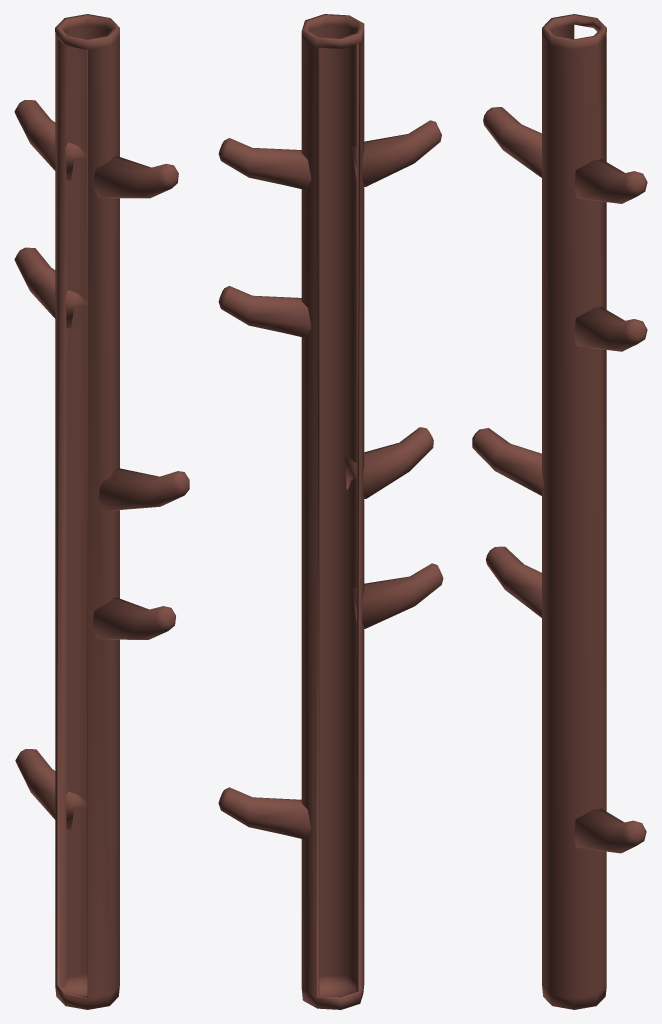
File: Towel Basket.fbx
3 views of the same model, side by side, from view 1: azimuth 90°, elevation 25°; view 2: azimuth 150°, elevation 25°; view 3: azimuth 270°, elevation 25° (orthographic).
Visible parts, largest first — view 1: Circle; view 2: Circle; view 3: Circle.
Boxes of the visible parts, x1,y1,x2,y2 form: Circle: [14, 14, 189, 1009]; Circle: [218, 14, 443, 1009]; Circle: [472, 14, 647, 1009].
Bounding box in the file's own units: 173 × 1032 × 169.
